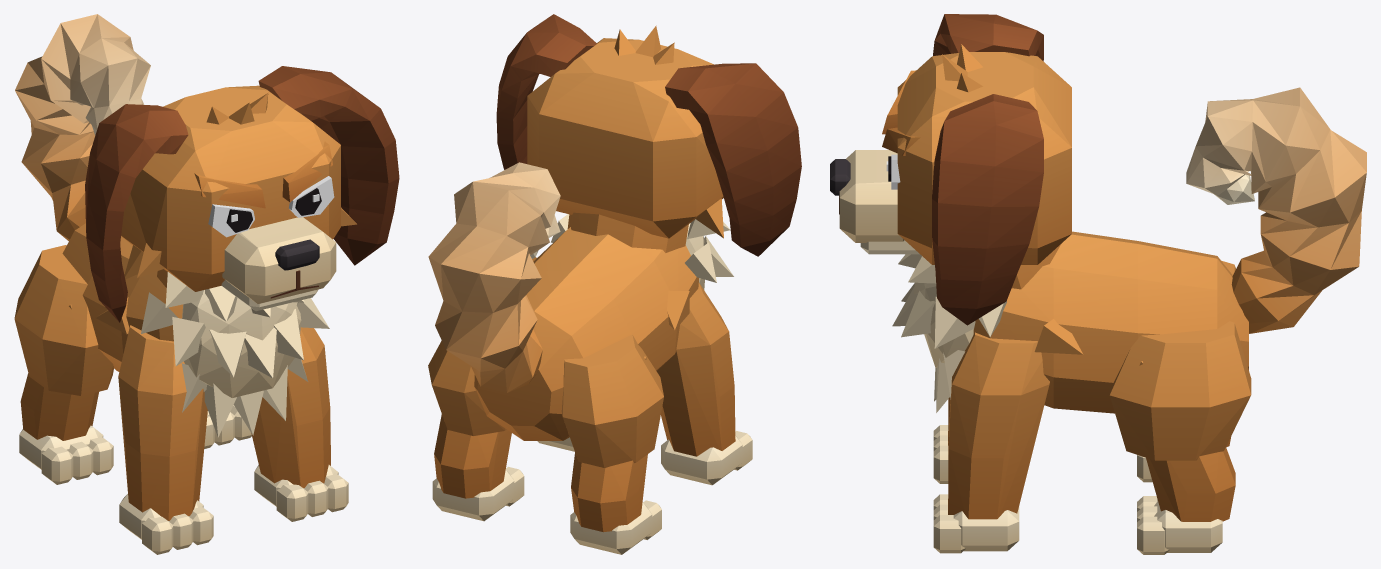
The model's file is punch_pup.glb.
3 views of the same model, side by side, from view 1: azimuth 30°, elevation 25°; view 2: azimuth 150°, elevation 25°; view 3: azimuth 270°, elevation 25° (orthographic). The views are drawn at different scales.
Visible parts, largest first — view 1: punch_pup; view 2: punch_pup; view 3: punch_pup.
Part boxes in pixels (<box>): punch_pup: <box>14,14,399,554</box>; punch_pup: <box>428,14,801,554</box>; punch_pup: <box>830,14,1366,554</box>.
Bounding box in the file's own units: 0.6814 × 0.9426 × 1.02.
1 material, 1 textured.
